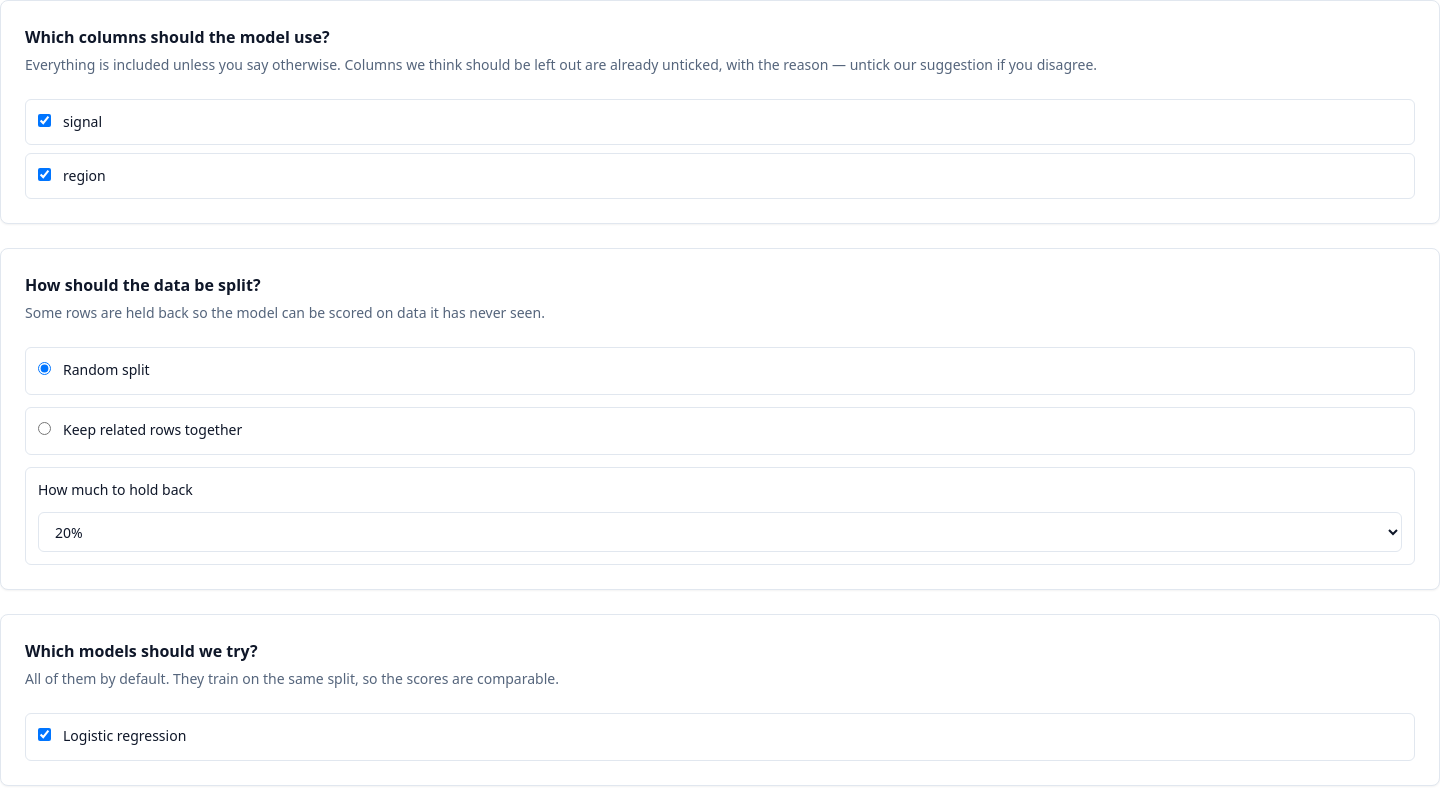
Test case: ModelPlanForm — a group key of several columns (#22) › lets grouping be chosen when no single column looks like an entity but columns could name one together
Click the radio button labelled "Keep related rows together".
click(44, 428)  # box [38,422,51,435]
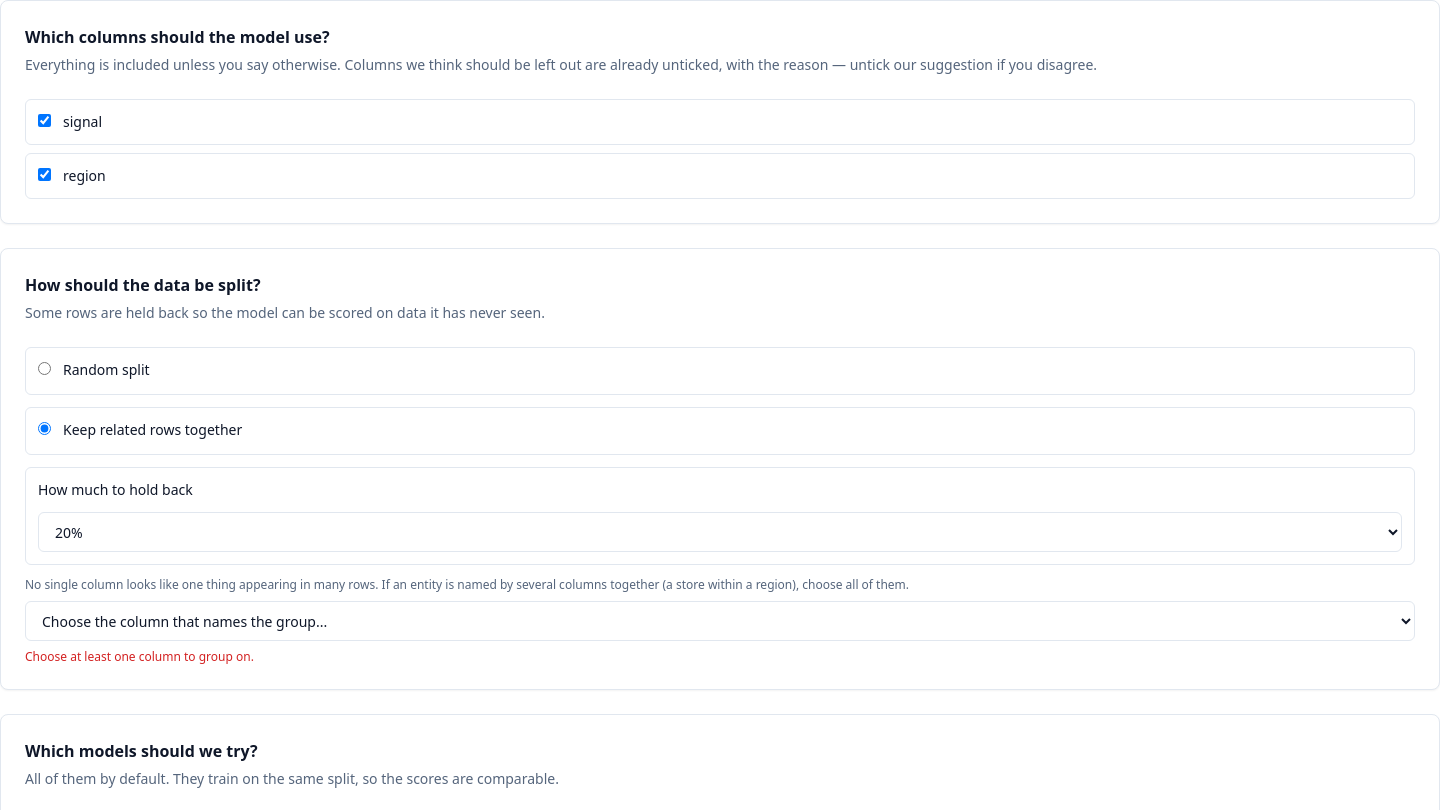
Check: the text "choose all of them" is shown, box [25,576,909,593]
